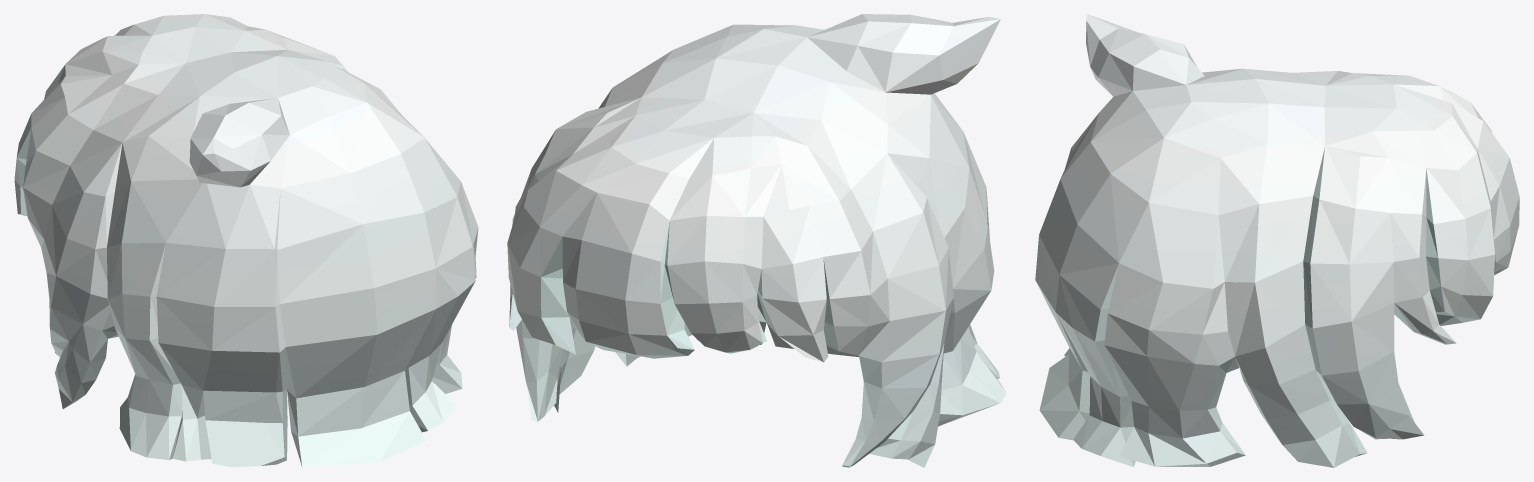
The model's file is CharSkyKid_Hair_AP25Bob.glb.
The picture shows the model from 3 angles, left to right: view 1: azimuth 30°, elevation 25°; view 2: azimuth 150°, elevation 25°; view 3: azimuth 270°, elevation 25°; orthographic projection. The views are drawn at different scales.
Parts seen in each view (by area): view 1: CharSkyKid_Hair_AP25Bob; view 2: CharSkyKid_Hair_AP25Bob; view 3: CharSkyKid_Hair_AP25Bob.
Boxes of the visible parts, x1,y1,x2,y2 form: CharSkyKid_Hair_AP25Bob: (14,14,478,467); CharSkyKid_Hair_AP25Bob: (507,14,1006,467); CharSkyKid_Hair_AP25Bob: (1035,14,1519,467).
Bounding box in the file's own units: 2.73 × 2.5 × 3.2.
1 material, 1 textured.
